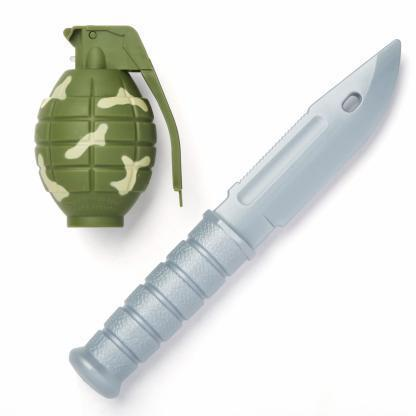Grenade: (34, 26, 185, 227)
Knife: (69, 38, 403, 399)
